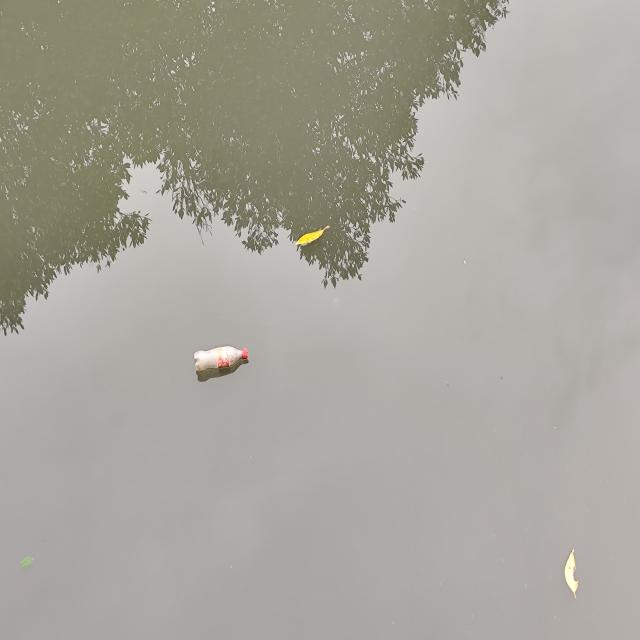Botol Plastik: (192, 340, 252, 386)
